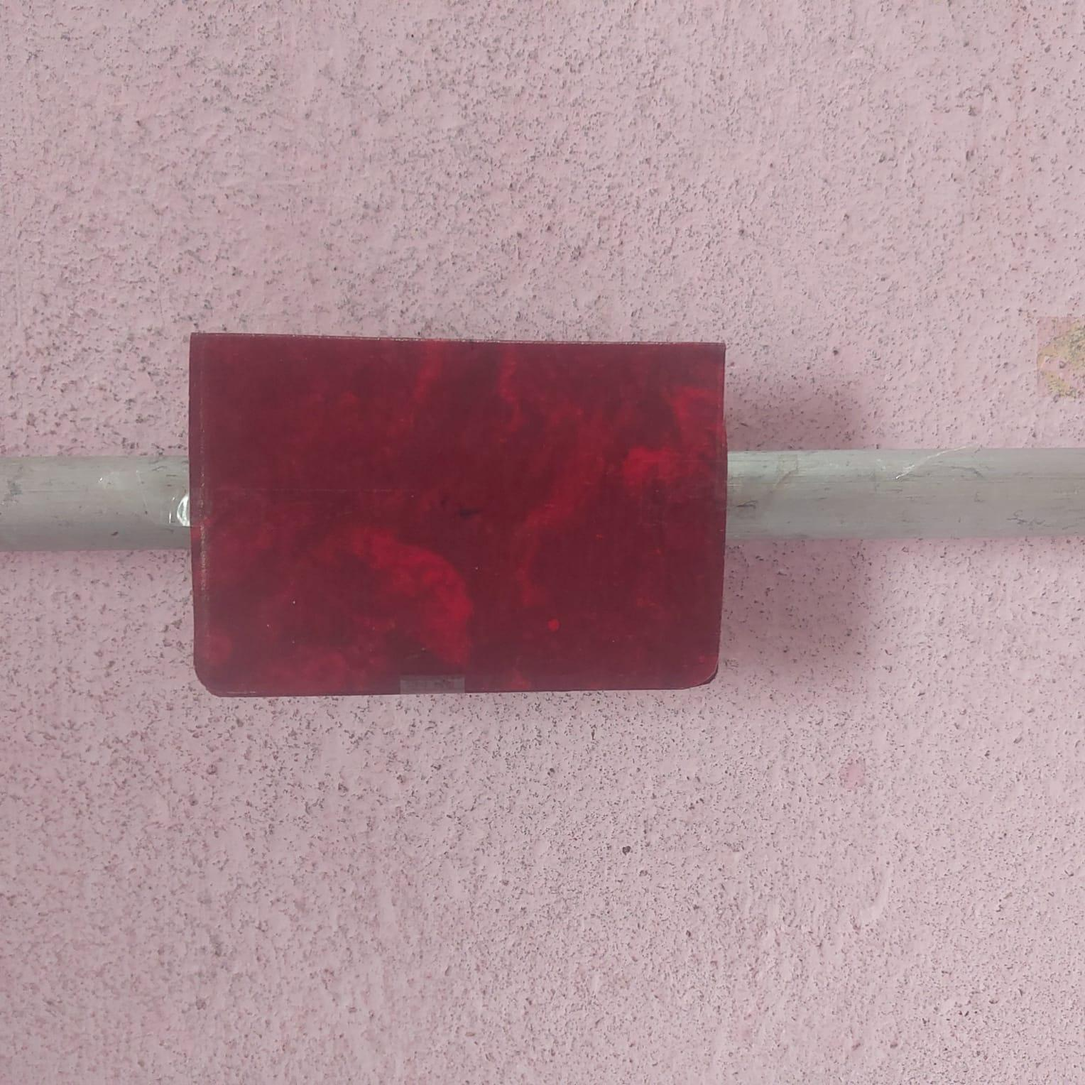wallet: (186, 331, 731, 694)
